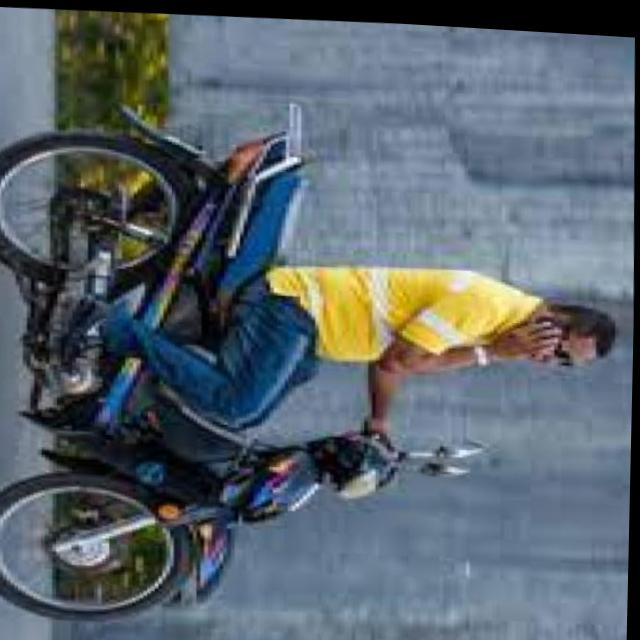USING_MOBILE: (501, 291, 604, 357)
